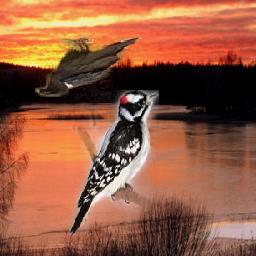Crow: (36, 35, 143, 98)
Woodpecker: (69, 91, 159, 236)
